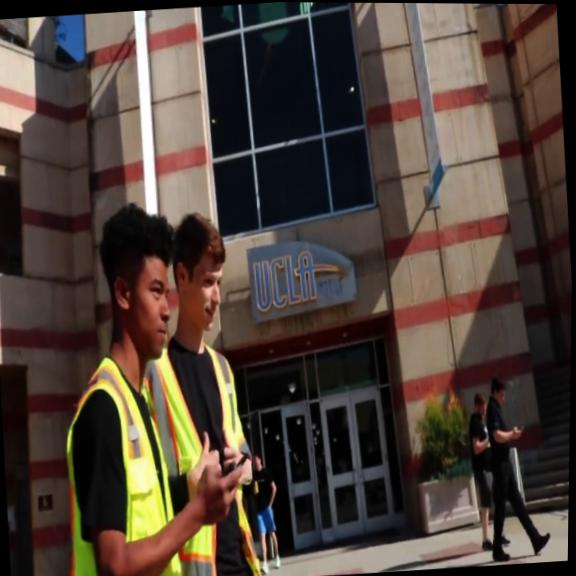safety_vest: (52, 346, 186, 576), (139, 338, 267, 576)
